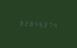eight: (17, 18, 21, 26), (27, 19, 31, 27)
four: (52, 20, 56, 29), (32, 19, 36, 27)
seven: (47, 20, 51, 28)
six: (37, 19, 41, 28)
two: (22, 18, 26, 27), (42, 20, 46, 28)
